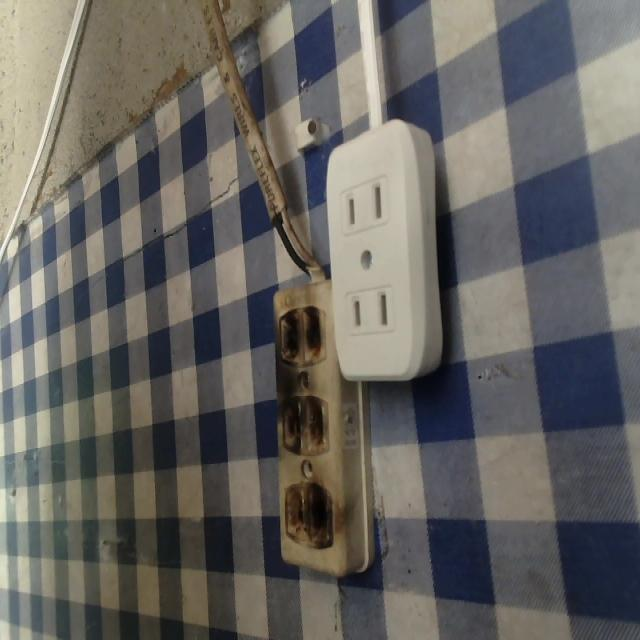-: (276, 477, 340, 551), (277, 394, 333, 466), (273, 304, 329, 364)
